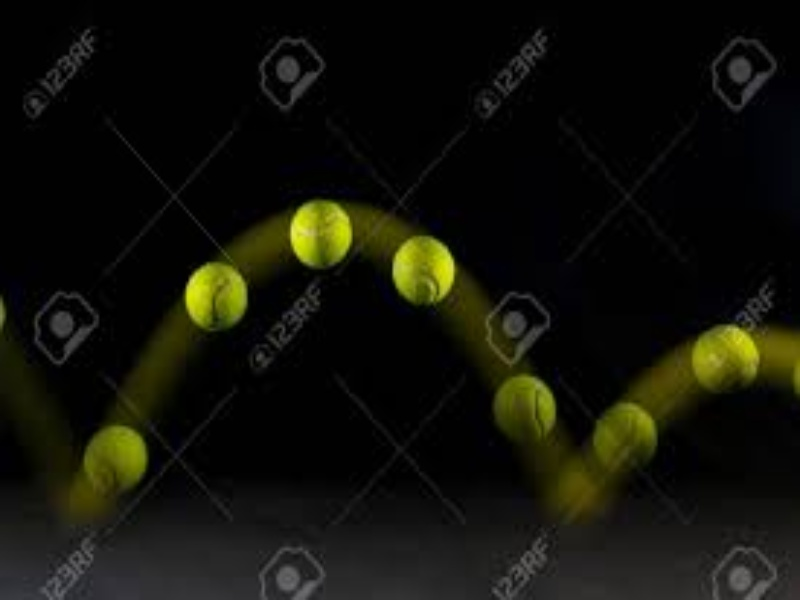tennis ball: (587, 393, 671, 490), (479, 366, 569, 453), (179, 253, 258, 334), (283, 194, 363, 272), (385, 230, 463, 310), (684, 319, 764, 394), (80, 414, 149, 495), (534, 458, 607, 534)
